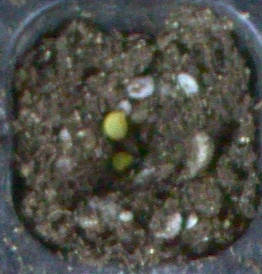pepper seed: (42, 65, 180, 237), (39, 38, 169, 180)
